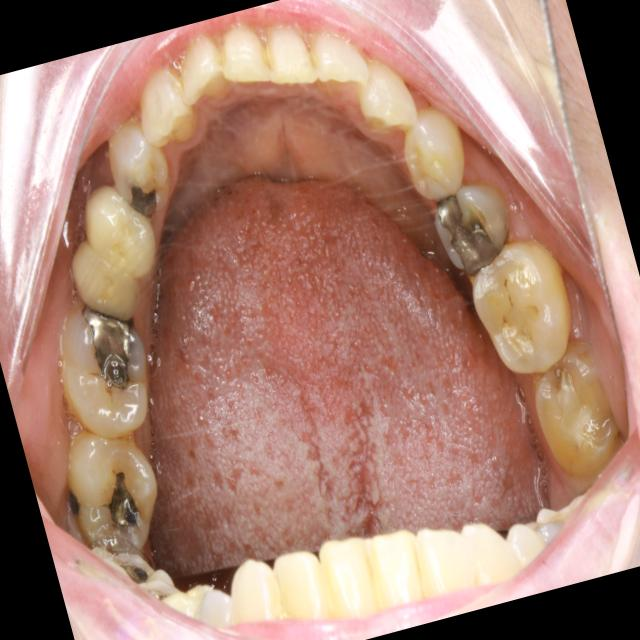tooth: (447, 213, 597, 399), (39, 400, 183, 584), (41, 286, 171, 452), (512, 332, 640, 499), (373, 86, 488, 227), (418, 160, 536, 297), (69, 166, 176, 302), (93, 109, 188, 236), (340, 34, 433, 158), (60, 230, 156, 348), (156, 14, 251, 127), (122, 47, 211, 167), (298, 4, 384, 119), (251, 6, 335, 116), (206, 14, 284, 114)
